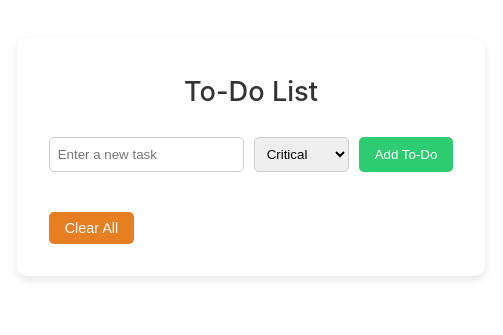
Test case: Todo Application Integration Test › should add a new todo
Expected: the dropdown is shown, 254,137 -> 349,172
Type "New Task" into the field with class "todo-input".
click(147, 155); type("New Task")  # box 49,137 -> 244,172
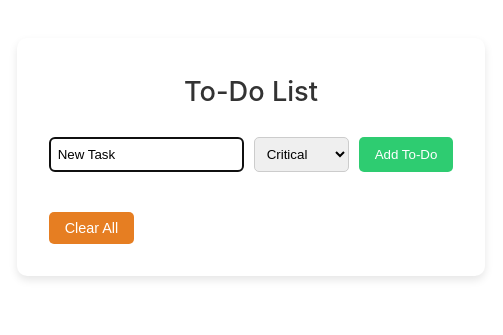
Select "Optional" in the dropdown at x=302, y=155, box 254,137 -> 349,172
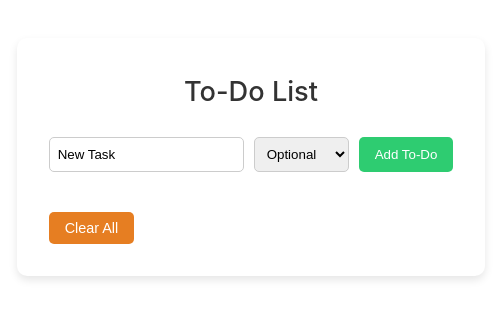
Click the button "Add To-Do".
click(407, 155)  # box 359,137 -> 454,172
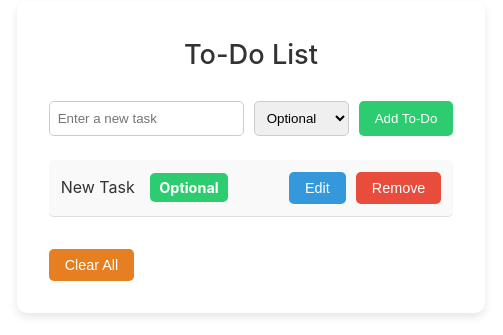
Expected: the number of list items with class "todo-item" is 1, 49,160 -> 454,217
Expected: the text with class "todo-text" reads "New Task", 61,177 -> 135,197
Expected: the text with class "todo-priority" reads "optional", 159,179 -> 218,196
